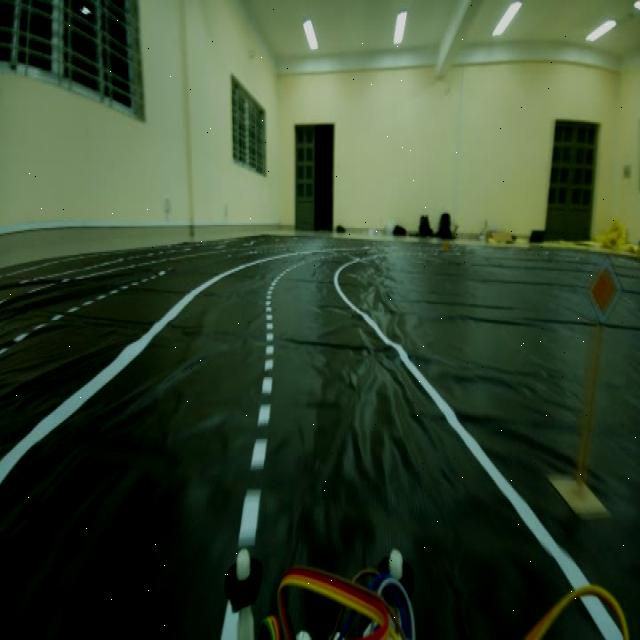priority: (587, 254, 622, 327)
